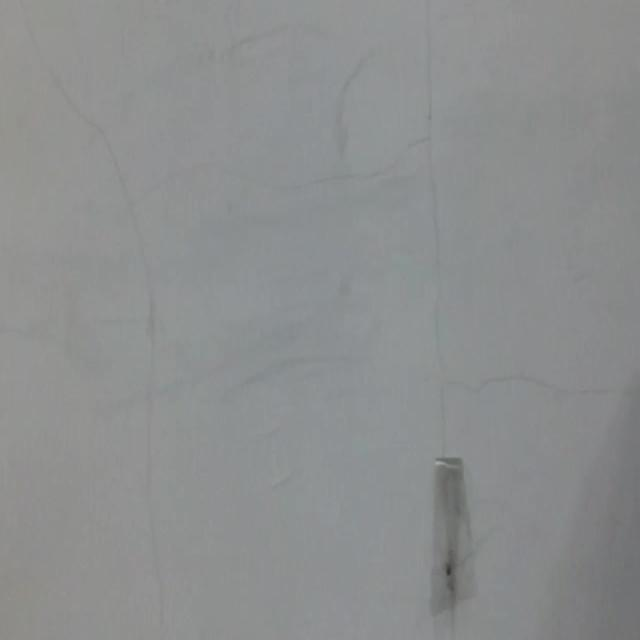Crack: (18, 0, 172, 640), (405, 347, 640, 432), (409, 0, 457, 339), (209, 148, 397, 214)
